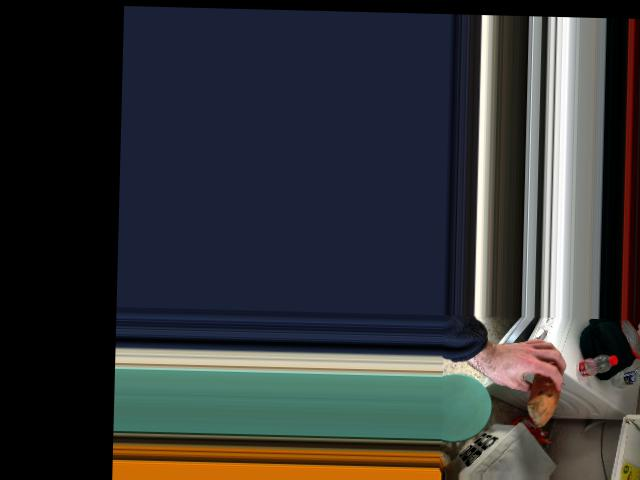sweet_potato: (534, 366, 557, 414)
